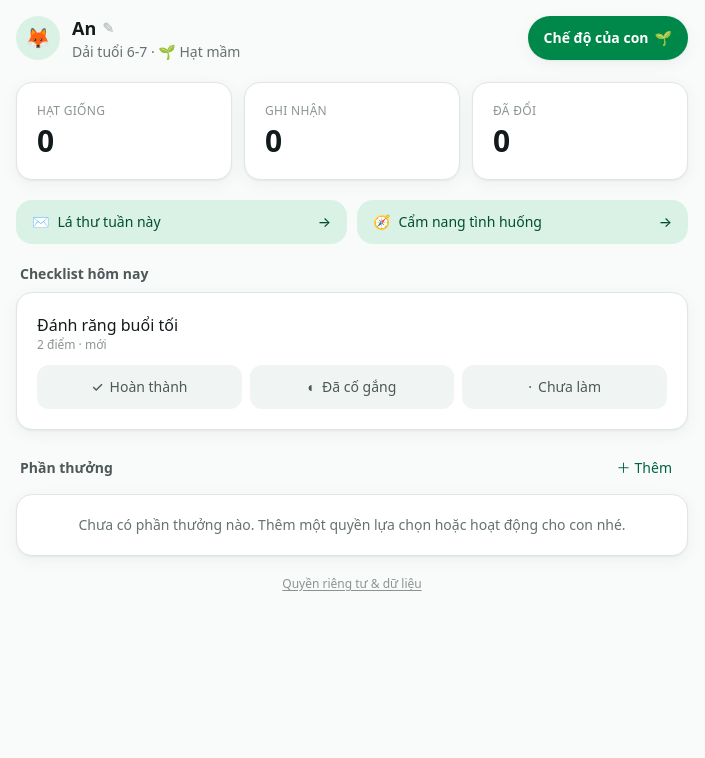
Test case: ParentDashboard — parent self-regulation micro-pause › clears when the same behavior is later logged as a good moment
Click the button "· Chưa làm" at [565, 387], box [462,365,667,409]
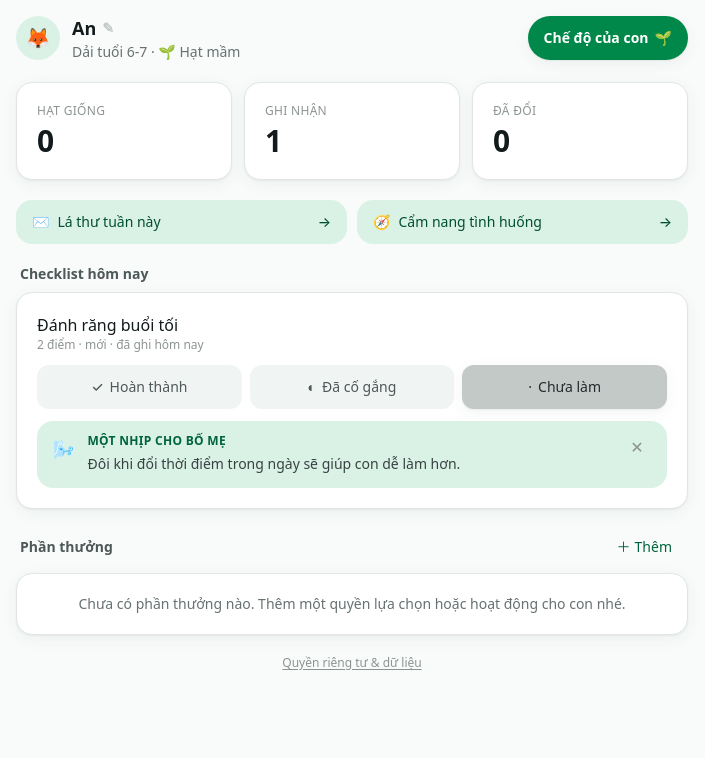
Check: the text "Một nhịp cho bố mẹ" is shown, box [88,432,226,449]
Click the button "✓ Hoàn thành" at [139, 387], box [37,365,242,409]
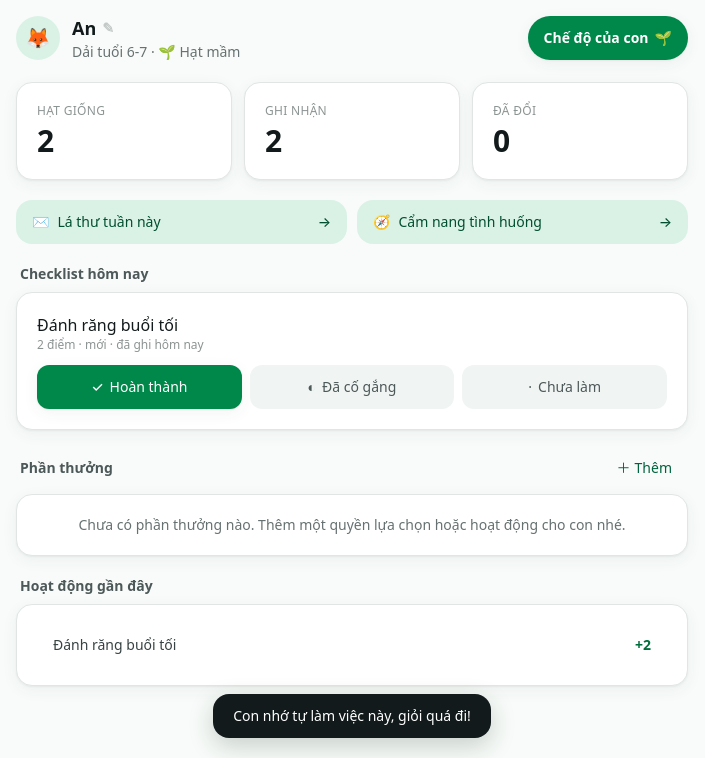
Check: the text "Một nhịp cho bố mẹ" is gone
